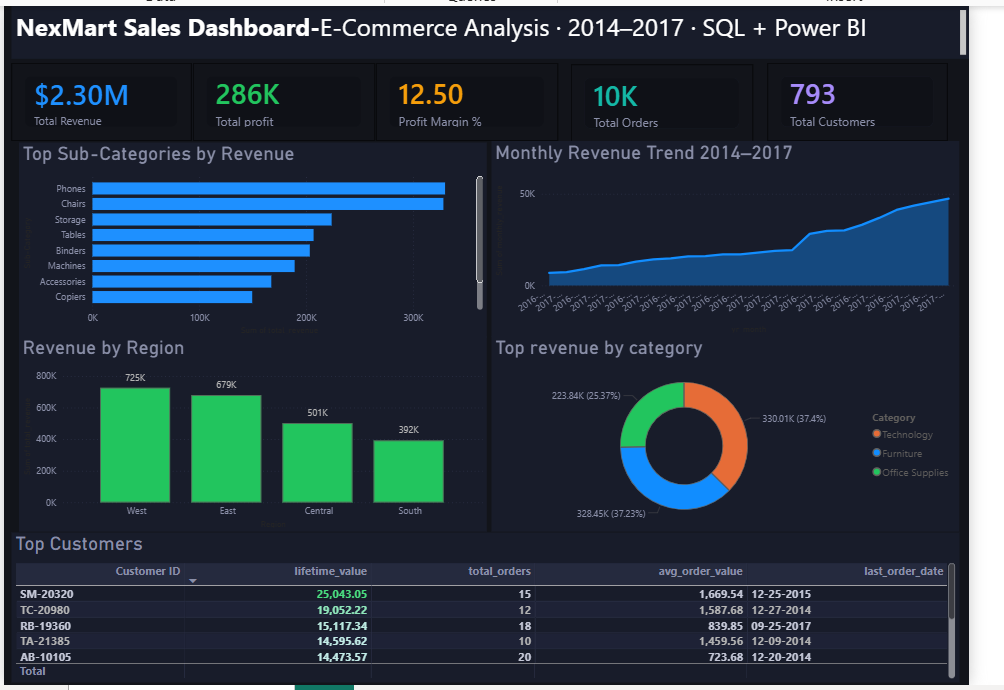

Layout of this report page (visuals, bound fields, positions):
{"tool":"powerbi","page":{"name":"Nexmart Dashboard","canvas":[1280,900],"ordinal":0},"visuals":[{"type":"textbox","box":[10.1,0,1270,70],"z":0},{"type":"cardVisual","fields":{"Data":["q6_all KPI'S.Total Revenue"]},"box":[10.1,74.9,239,103],"z":1000},{"type":"cardVisual","fields":{"Data":["q6_all KPI'S.Total profit"]},"box":[251.1,74.9,241,103],"z":2000},{"type":"cardVisual","fields":{"Data":["q6_all KPI'S.Profit Margin %"]},"box":[492.2,74.9,241,103.3],"z":3000},{"type":"cardVisual","fields":{"Data":["q6_all KPI'S.Total Customers"]},"box":[1012.7,74.9,239,103.3],"z":4000},{"type":"cardVisual","fields":{"Data":["q6_all KPI'S.Total Orders"]},"box":[751.4,77,241,103.3],"z":5000},{"type":"clusteredBarChart","title":"Top Sub-Categories by Revenue","fields":{"Category":["q1_top 10 products.Sub-Category"],"Y":["Sum(q1_top 10 products.total_revenue)"]},"box":[20.3,180.3,619.7,259.2],"z":6000},{"type":"lineChart","title":"Monthly Revenue Trend 2014–2017","fields":{"Y":["Sum(q4_Monthly Revenue Trends + Month-over-Month Growth.monthly_revenue)"],"Category":["q4_Monthly Revenue Trends + Month-over-Month Growth.yr_month"]},"box":[646.1,178.2,619.7,259.2],"z":7000},{"type":"clusteredColumnChart","title":"Revenue by Region","fields":{"Category":["q2_Regions Above $100K Revenue.Region"],"Y":["Sum(q2_Regions Above $100K Revenue.total_revenue)"]},"box":[20.3,437.5,619.7,259.2],"z":8000},{"type":"donutChart","title":"Top revenue by category","fields":{"Category":["q5_ Sub-Category per Category.Category"],"Y":["Sum(q5_ Sub-Category per Category.total_revenue)"]},"box":[646.1,437.5,619.7,259.2],"z":9000},{"type":"tableEx","title":"Top Customers","fields":{"Values":["q3_Top 10 Customers by Lifetime Value.Customer ID","q3_Top 10 Customers by Lifetime Value.lifetime_value","q3_Top 10 Customers by Lifetime Value.total_orders","q3_Top 10 Customers by Lifetime Value.avg_order_value","q3_Top 10 Customers by Lifetime Value.last_order_date"]},"box":[10.1,698.7,1255.7,198.5],"z":10000}]}

Visuals, with their boxes on the page's 1280x900 design canvas (x1, y1, x2, y2). These are canvas units, not pixel positions in the 1004x690 screenshot, which may show the page scaled, cropped or inside an application window:
textbox: left=10, top=0, right=1280, bottom=70
cardVisual - q6_all KPI'S.Total Revenue: left=10, top=75, right=249, bottom=178
cardVisual - q6_all KPI'S.Total profit: left=251, top=75, right=492, bottom=178
cardVisual - q6_all KPI'S.Profit Margin %: left=492, top=75, right=733, bottom=178
cardVisual - q6_all KPI'S.Total Customers: left=1013, top=75, right=1252, bottom=178
cardVisual - q6_all KPI'S.Total Orders: left=751, top=77, right=992, bottom=180
"Top Sub-Categories by Revenue" clusteredBarChart: left=20, top=180, right=640, bottom=440
"Monthly Revenue Trend 2014–2017" lineChart: left=646, top=178, right=1266, bottom=437
"Revenue by Region" clusteredColumnChart: left=20, top=438, right=640, bottom=697
"Top revenue by category" donutChart: left=646, top=438, right=1266, bottom=697
"Top Customers" tableEx: left=10, top=699, right=1266, bottom=897
